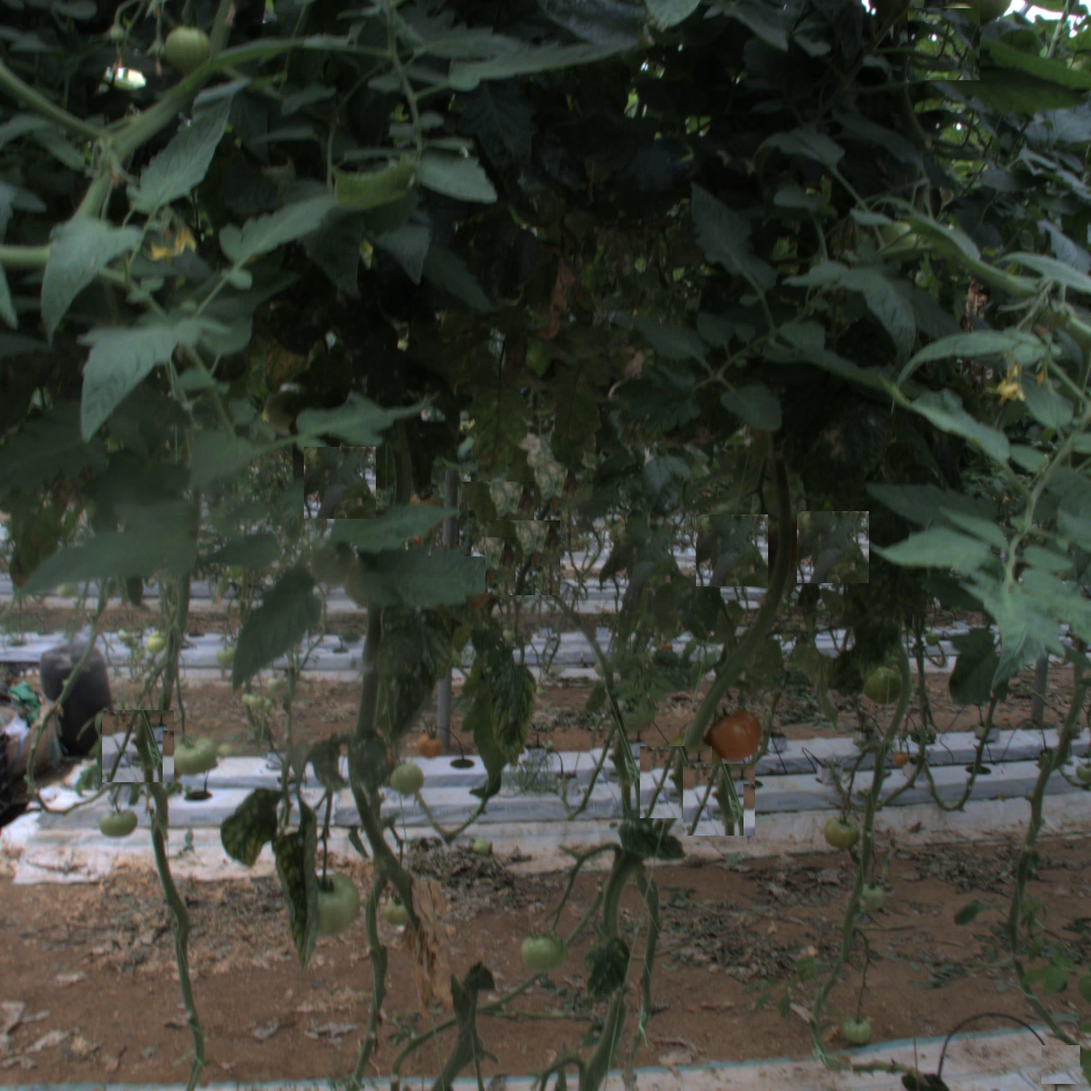fully-ripe: (714, 714, 758, 758)
unripe: (297, 870, 361, 934), (172, 734, 217, 779), (520, 928, 565, 973), (163, 21, 208, 65), (862, 668, 904, 709), (101, 805, 136, 840), (389, 760, 424, 795), (822, 813, 856, 848)
